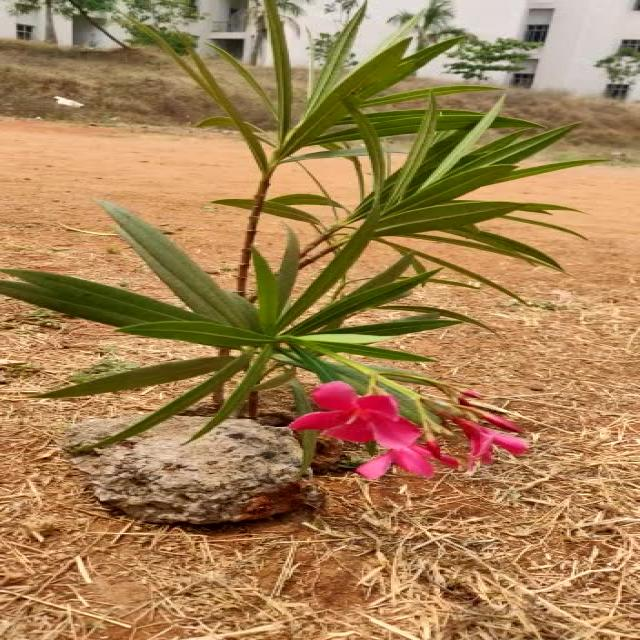OLEANDER: (0, 0, 595, 456)
